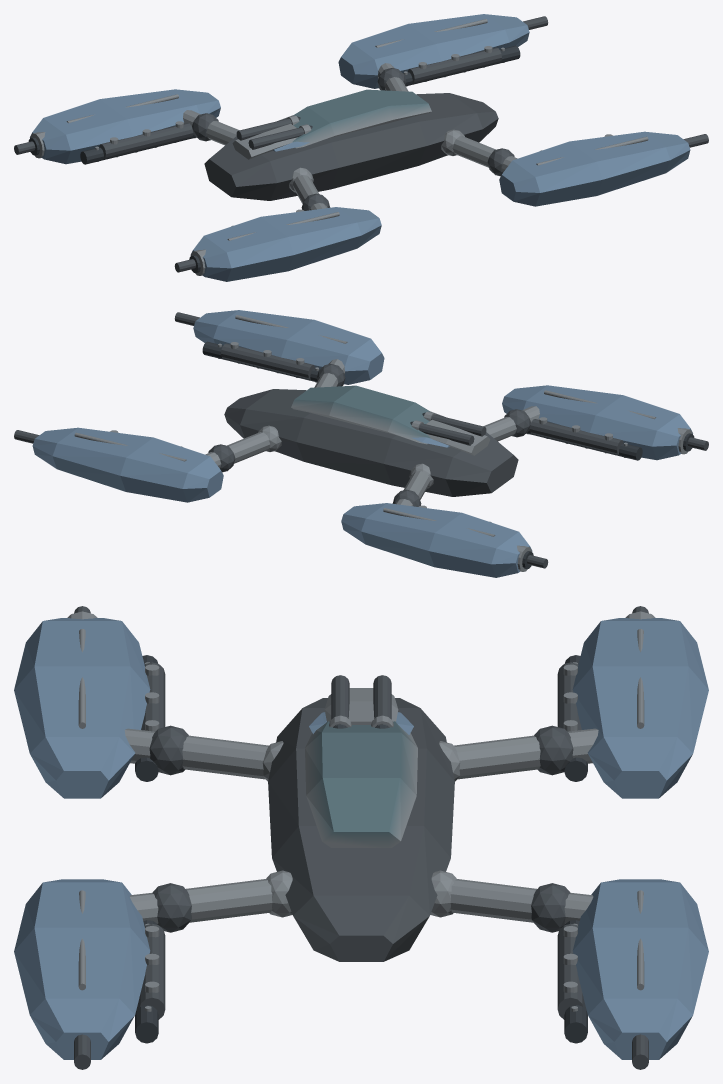
File: x5_blue_ground_off.glb
The picture shows the model from 3 angles, top to bottom: view 1: azimuth 30°, elevation 25°; view 2: azimuth 150°, elevation 25°; view 3: azimuth 270°, elevation 25°; orthographic projection. The views are drawn at different scales.
Parts seen in each view (by area): view 1: pod_armor_10, center_hull_0, cabin_base_1, pod_mechanics_15, mechanical_arms_8, outer_joint_9, pod_rail_11, missile_body_3, inner_drive_rail_17, forward_gun_12, launcher_saddle_2, inner_joint_7; view 2: pod_armor_10, center_hull_0, cabin_base_1, pod_mechanics_15, mechanical_arms_8, outer_joint_9, missile_body_3, pod_rail_11, inner_drive_rail_17, forward_gun_12, launcher_saddle_2, inner_joint_7; view 3: pod_armor_10, center_hull_0, mechanical_arms_8, cabin_base_1, outer_joint_9, pod_mechanics_15, inner_drive_rail_17, inner_joint_7, pod_rail_11, mechanical_crossbeam_16, missile_body_3, forward_gun_12 (+1 smaller).
Boxes of the visible parts, x1,y1,x2,y2 form: pod_armor_10: (30,14,690,281); center_hull_0: (204,93,498,200); cabin_base_1: (292,89,431,148); pod_mechanics_15: (99,47,501,158); mechanical_arms_8: (183,63,517,210); outer_joint_9: (192,68,514,210); pod_rail_11: (66,19,648,240); missile_body_3: (236,117,311,149); inner_drive_rail_17: (80,45,520,164); forward_gun_12: (14,16,708,272); launcher_saddle_2: (232,123,297,159); inner_joint_7: (289,129,464,192); pod_armor_10: (32,310,692,577); center_hull_0: (224,389,518,496); cabin_base_1: (291,385,430,444); pod_mechanics_15: (221,343,623,454); mechanical_arms_8: (205,359,539,506); outer_joint_9: (208,364,530,506); missile_body_3: (411,413,486,445); pod_rail_11: (74,315,656,536); inner_drive_rail_17: (202,341,642,460); forward_gun_12: (14,312,708,568); launcher_saddle_2: (426,419,490,455); inner_joint_7: (258,425,433,488); pod_armor_10: (14,618,708,1059); center_hull_0: (268,698,454,961); mechanical_arms_8: (124,728,598,923); cabin_base_1: (305,721,417,847); outer_joint_9: (149,725,573,932); pod_mechanics_15: (139,662,583,1019); inner_drive_rail_17: (135,655,587,1043); inner_joint_7: (262,741,460,917); pod_rail_11: (78,629,644,990); mechanical_crossbeam_16: (145,664,577,992); missile_body_3: (331,675,391,727); forward_gun_12: (74,606,648,1069).
Bounding box in the file's own units: 8.06 × 0.9 × 5.28.
